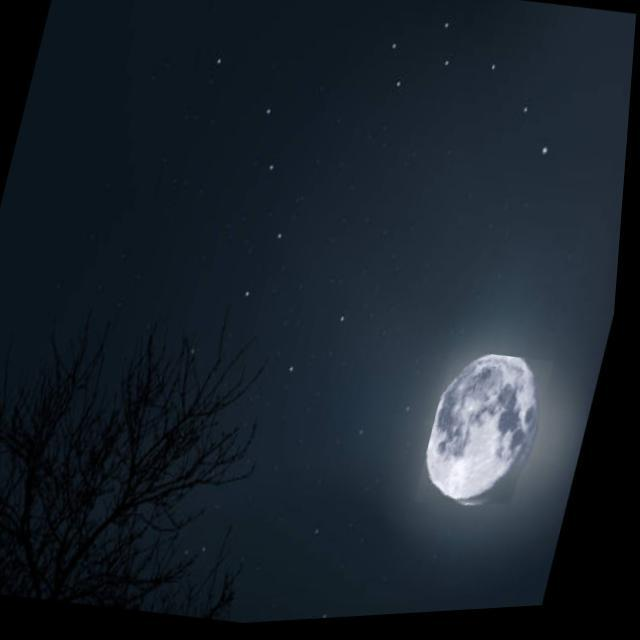moon: (421, 350, 562, 526)
